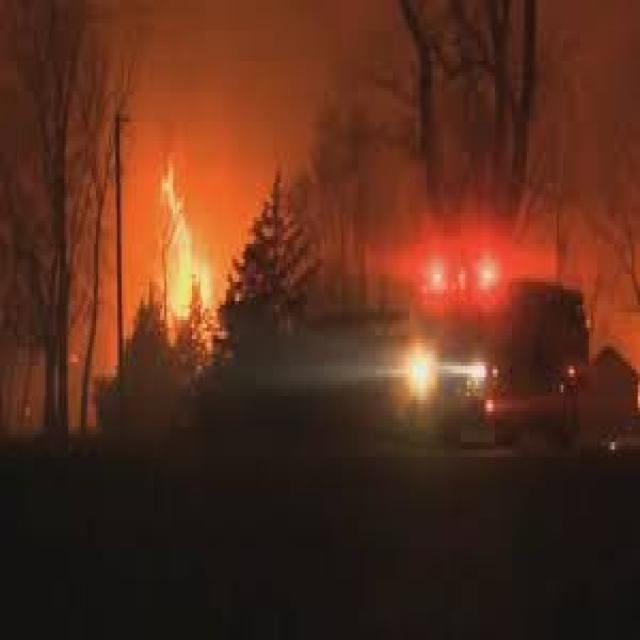Fire: (0, 0, 315, 392), (549, 148, 640, 382)
Smoke: (316, 1, 640, 211)
